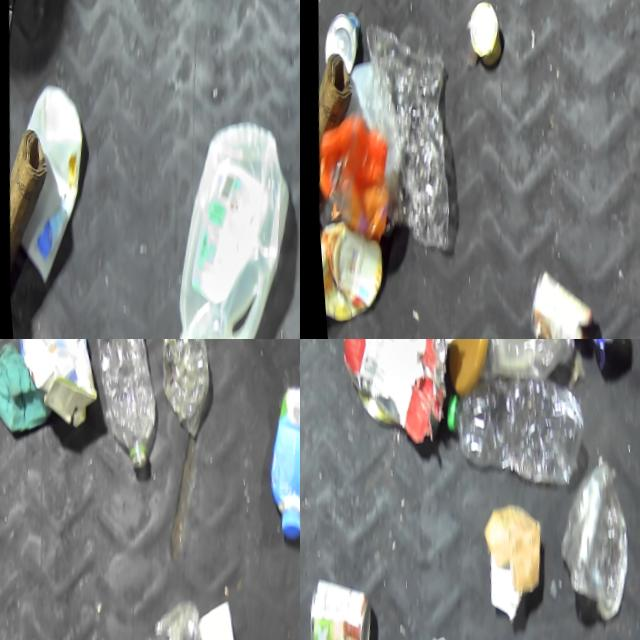can: (514, 266, 593, 339), (300, 574, 373, 640), (318, 8, 362, 76), (462, 0, 504, 70)
non_white_jug: (156, 118, 300, 339)
plastic_bottle: (435, 370, 590, 499), (76, 339, 168, 483), (150, 339, 218, 452)
